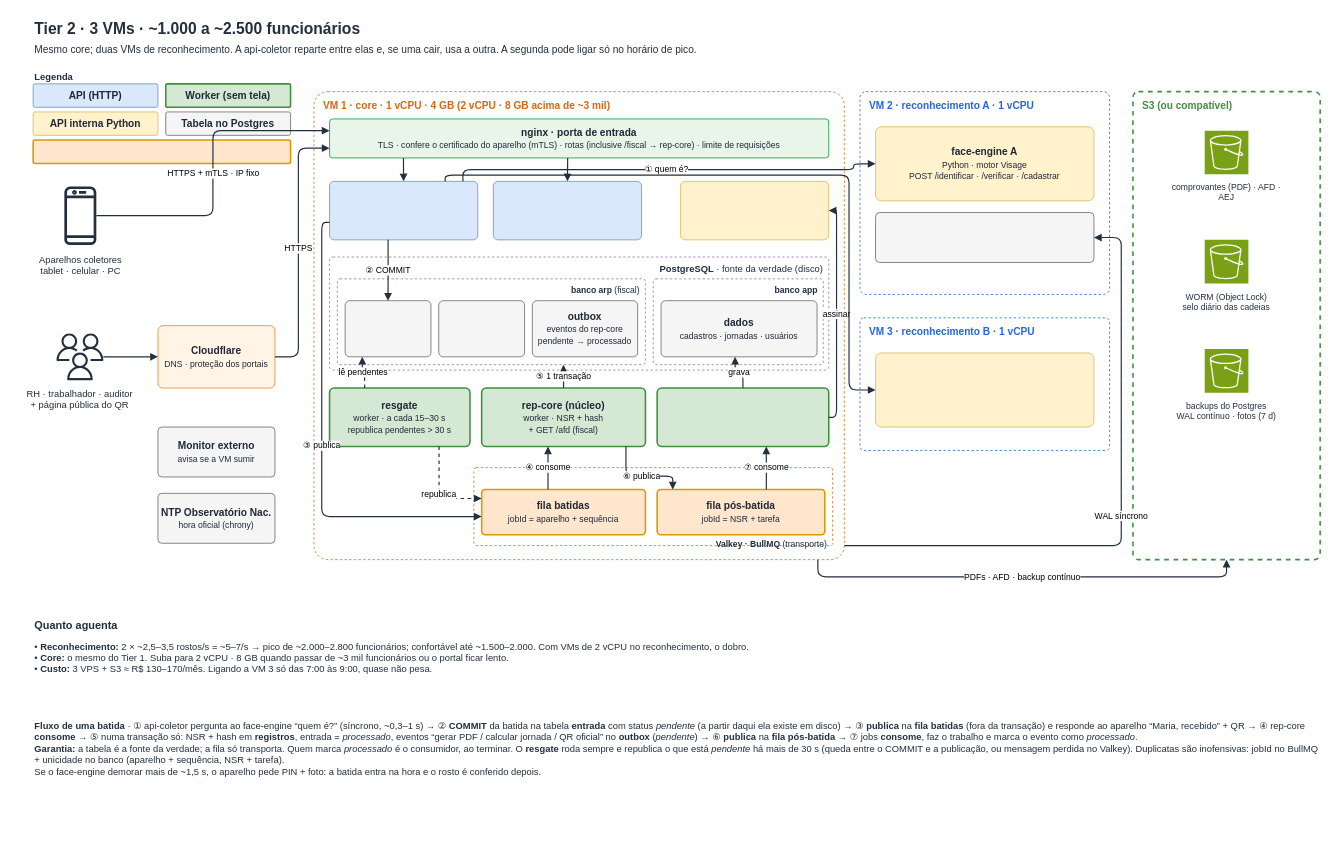
Image size: 1334x861. Some labels were removed from this diagram. Here are the shapes that lost their labels. From the top down, the centre of each, then its label:
At pixel 161 151: "Fila de mensagens (BullMQ no Valkey)".
At pixel 403 210: "api-coletor Node · recebe batidas e lotes dos aparelhos".
At pixel 567 210: "api-portal + Next.js Node · RH, trabalhador, fiscal, página do QR".
At pixel 754 210: "signer Python · assina PDF, AFD e AEJ (ICP)".
At pixel 984 237: "pg_receivewal recebe cada commit do banco antes de confirmar".
At pixel 387 328: "entrada outbox da api-coletor pendente → processado".
At pixel 481 328: "registros o ARP: NSR, hash, CPF…".
At pixel 984 389: "face-engine B Python · motor Visage POST /identificar · /verificar · /cadastrar".
At pixel 742 417: "jobs worker · PDF (chama o signer), jornada (PTRP), QR oficial".
